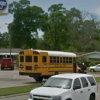Bus: (15, 42, 80, 77)
